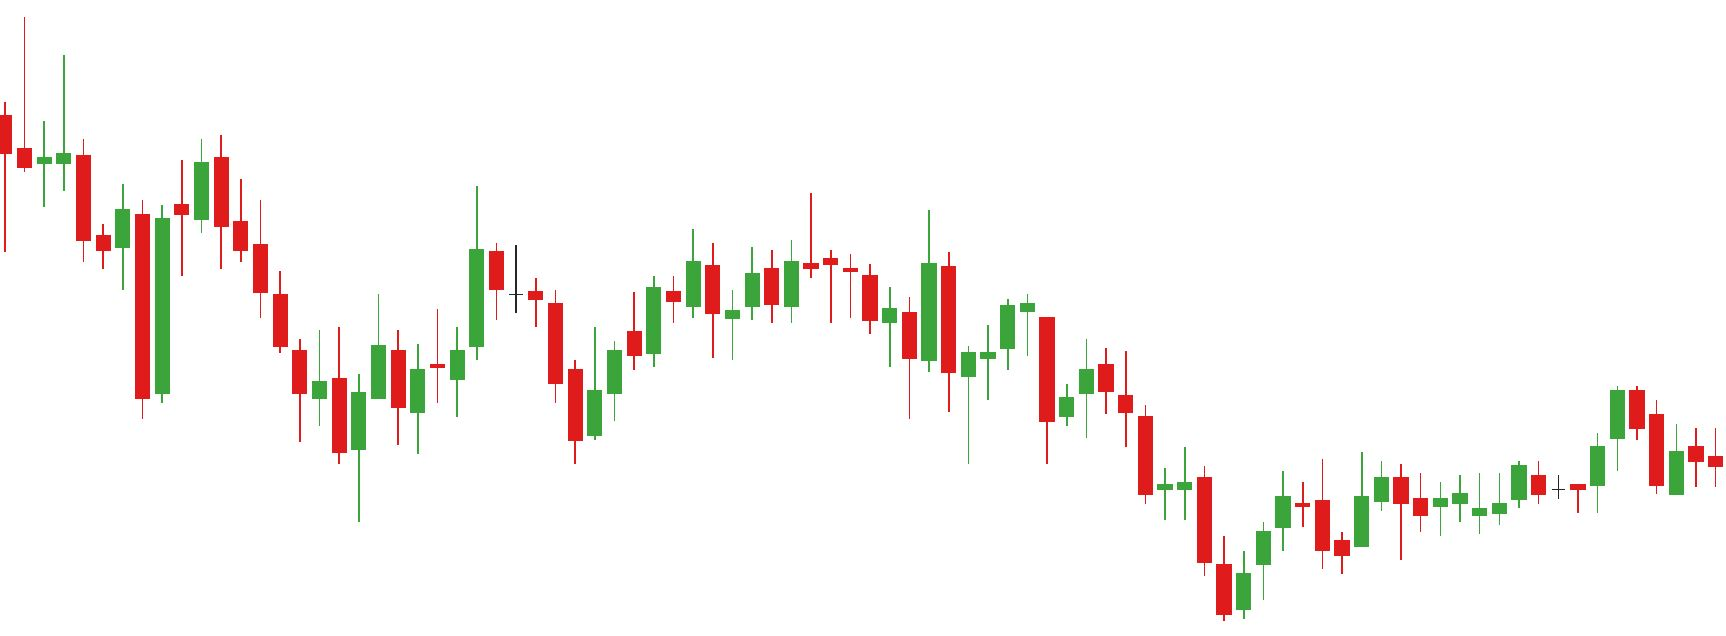sell: (681, 186, 822, 308)
